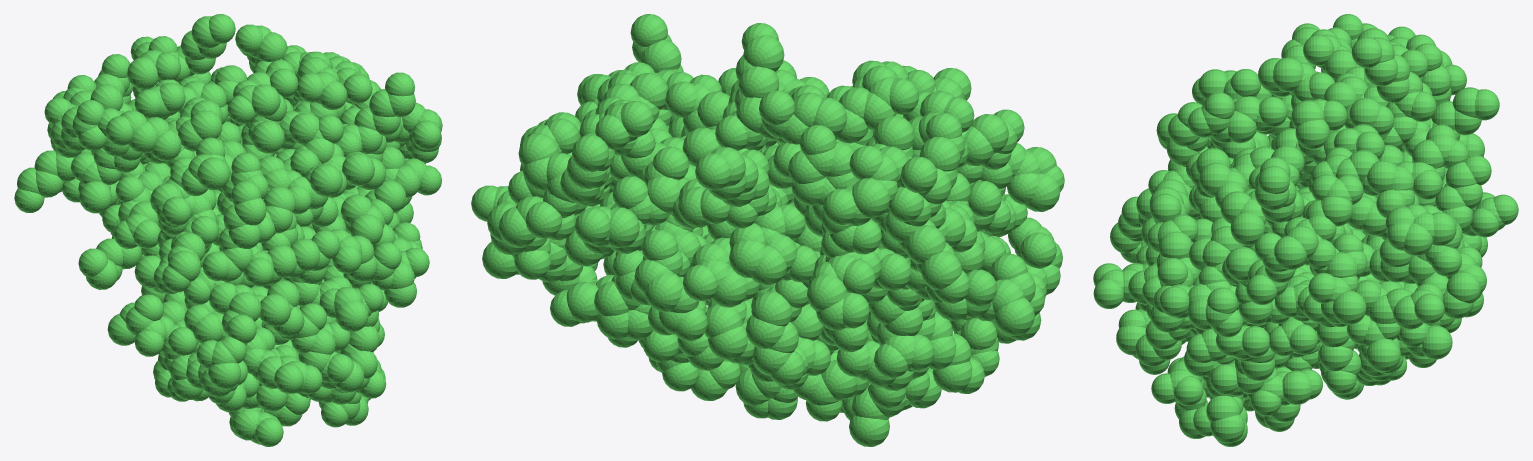
File: 1mbn__spheres__chain.glb
3 views of the same model, side by side, from view 1: azimuth 30°, elevation 25°; view 2: azimuth 150°, elevation 25°; view 3: azimuth 270°, elevation 25° (orthographic). The views are drawn at different scales.
Visible parts, largest first — view 1: Renderer Node; view 2: Renderer Node; view 3: Renderer Node.
Part boxes in pixels (x1=…): Renderer Node: x1=14, y1=14, x2=442, y2=446; Renderer Node: x1=471, y1=14, x2=1064, y2=446; Renderer Node: x1=1093, y1=14, x2=1518, y2=446.
Bounding box in the file's own units: 45.93 × 42.13 × 41.97.
